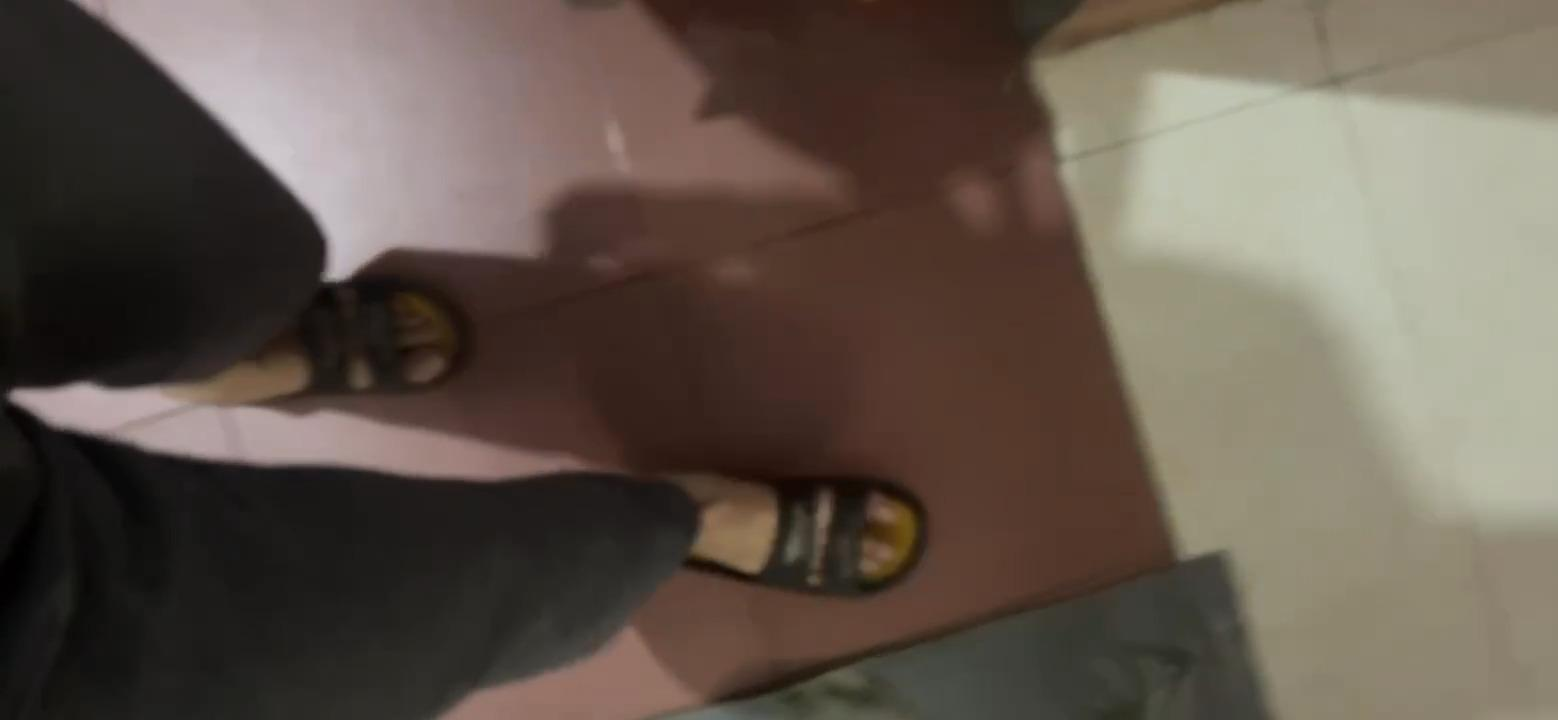no-boot: (631, 443, 930, 596), (215, 273, 469, 408)
